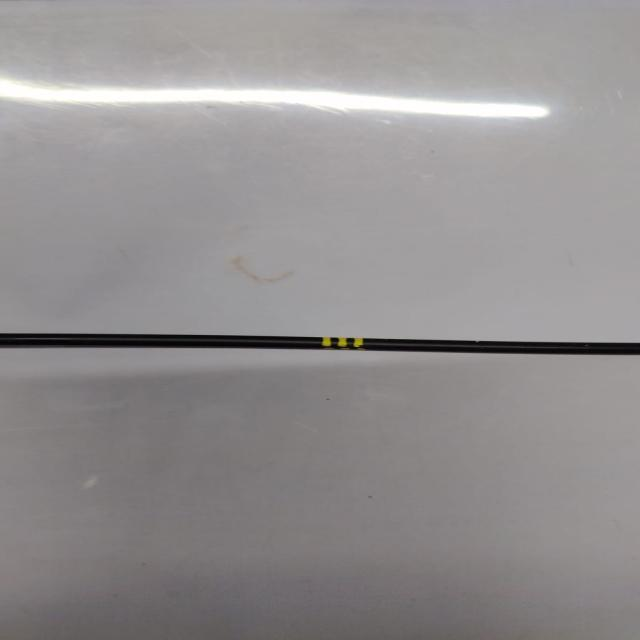yellow: (322, 337, 363, 350)
